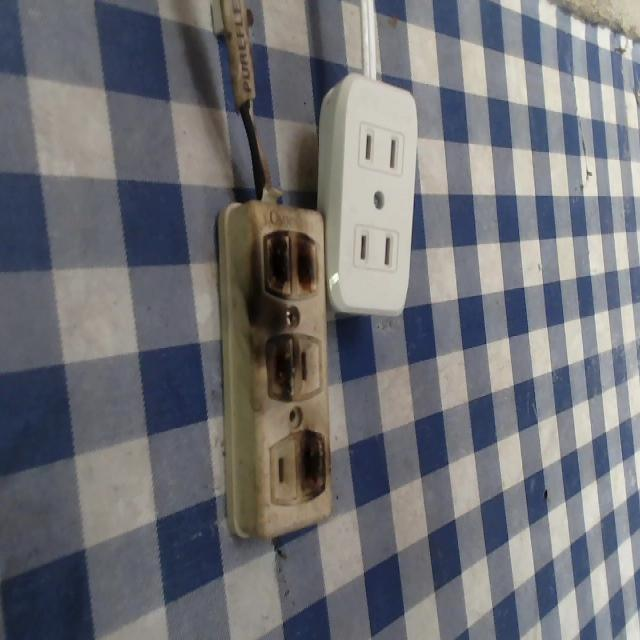-: (254, 221, 326, 303), (290, 427, 329, 501), (260, 329, 301, 399)
